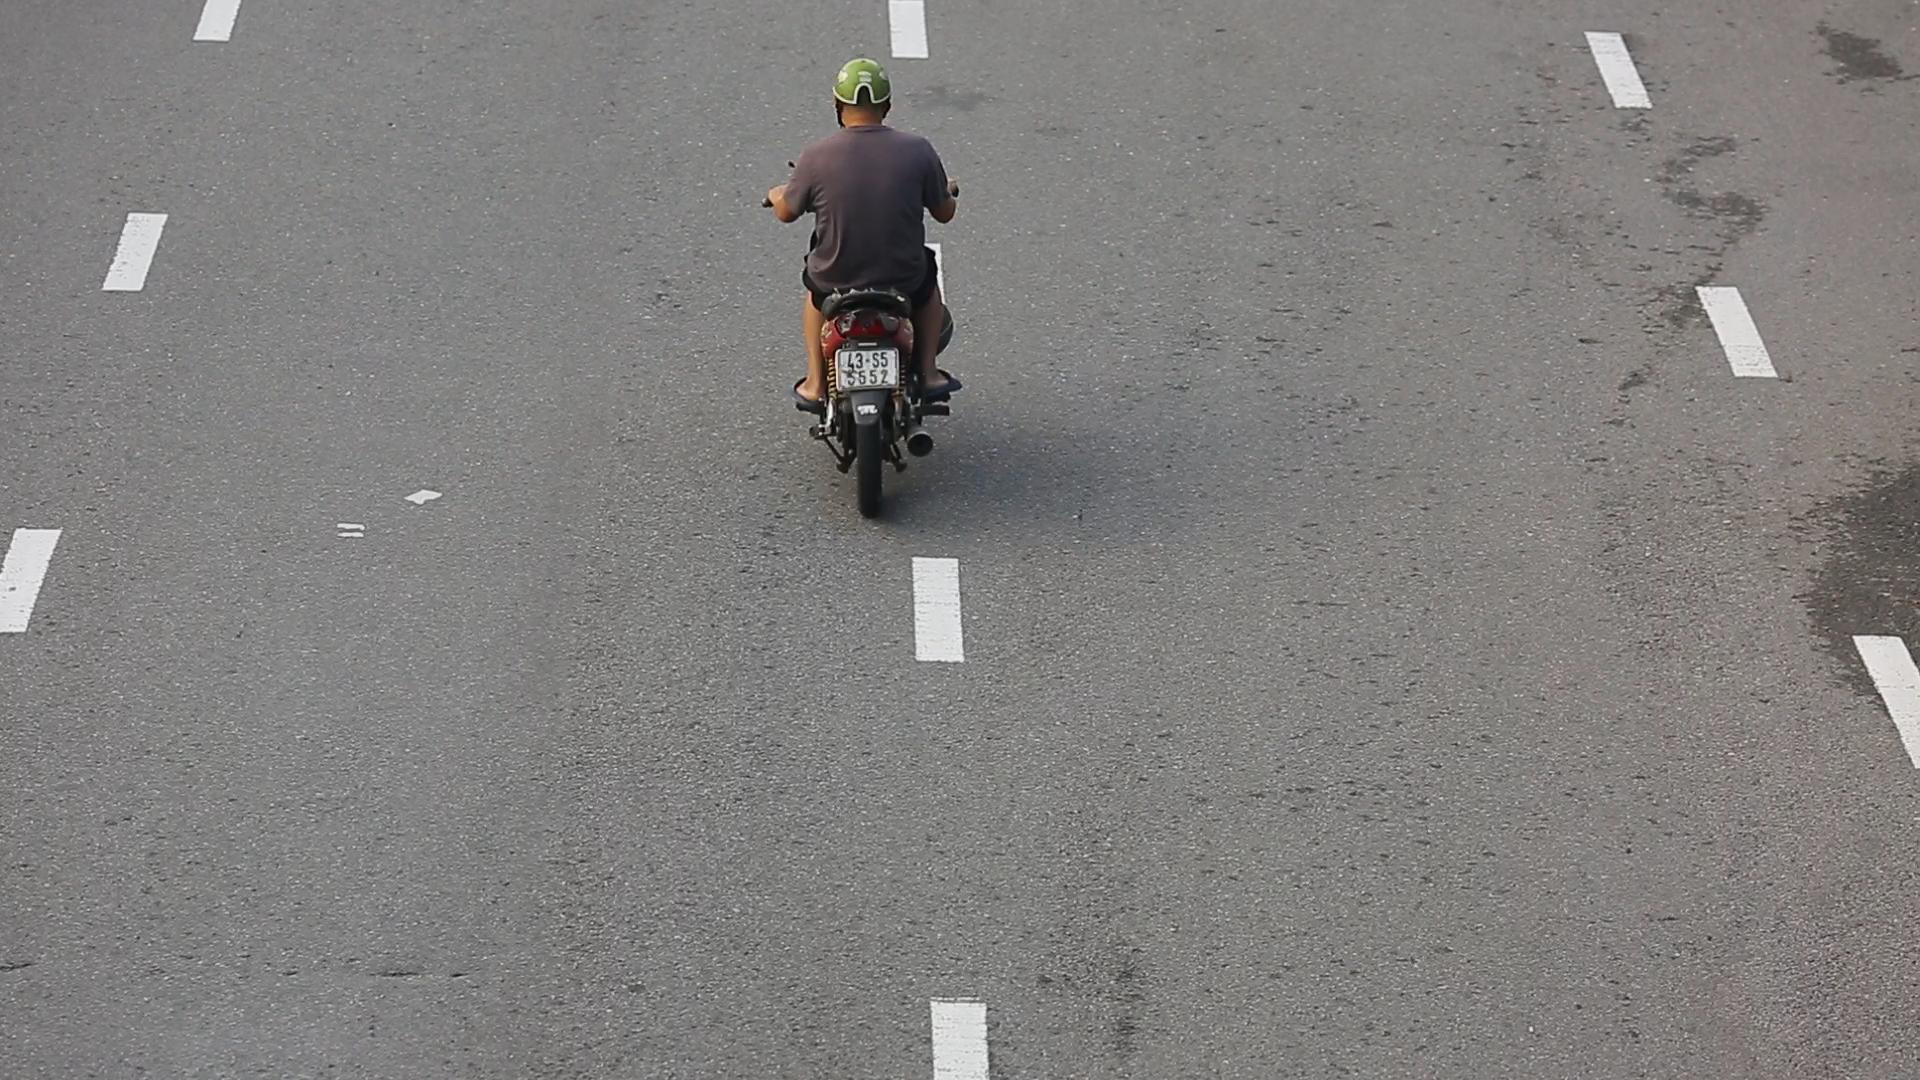motobike: (761, 44, 984, 529)
